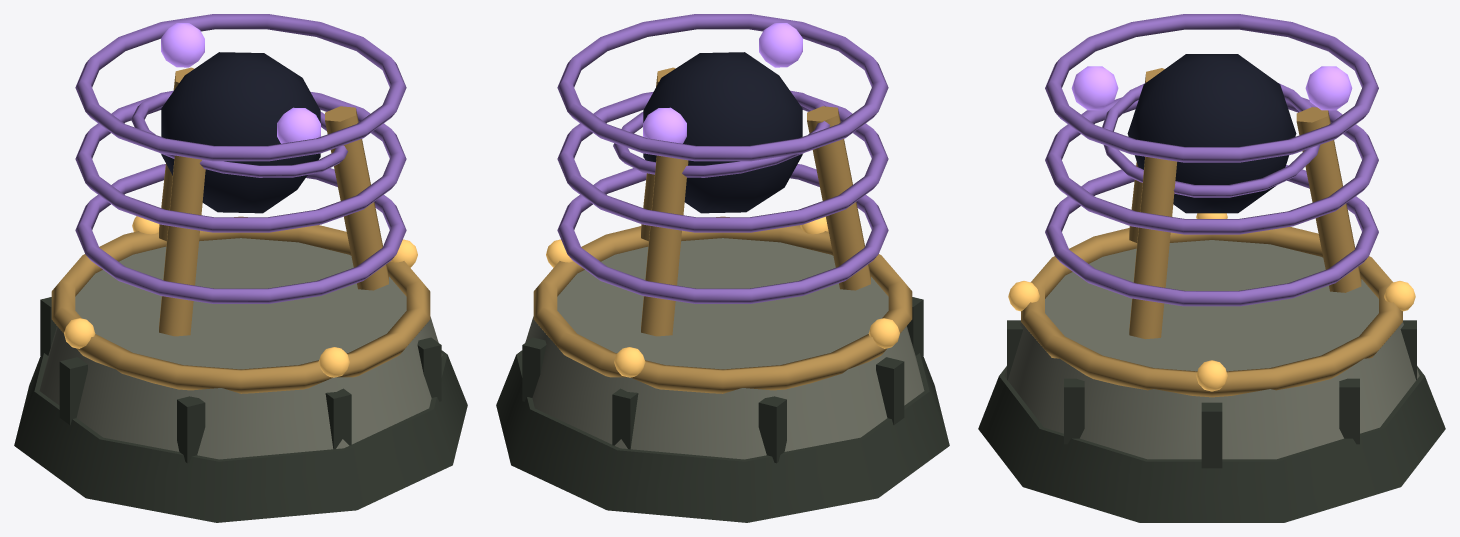
File: tower_gravity_gravityTide_ultimate.glb
The picture shows the model from 3 angles, left to right: view 1: azimuth 30°, elevation 25°; view 2: azimuth 150°, elevation 25°; view 3: azimuth 270°, elevation 25°; orthographic projection.
Visible parts, largest first — view 1: stone_1, foot_0, rim_2, black_hole_15, pulse_22, pulse_20, pulse_21, claw_18, claw_17, accretion_19, satellite_24, mortar_6 (+8 smaller); view 2: stone_1, foot_0, black_hole_15, rim_2, pulse_22, pulse_20, pulse_21, claw_16, claw_18, accretion_19, satellite_23, mortar_8 (+8 smaller); view 3: stone_1, foot_0, black_hole_15, rim_2, pulse_22, pulse_20, pulse_21, claw_17, claw_16, accretion_19, satellite_23, satellite_24 (+9 smaller).
Boxes of the visible parts, x1,y1,x2,y2 form: stone_1: [39, 238, 442, 459]; foot_0: [14, 350, 467, 522]; rim_2: [51, 216, 430, 393]; black_hole_15: [161, 52, 320, 213]; pulse_22: [75, 14, 406, 161]; pulse_20: [75, 164, 406, 303]; pulse_21: [75, 91, 406, 232]; claw_18: [159, 155, 205, 336]; claw_17: [325, 106, 388, 290]; accretion_19: [131, 90, 347, 177]; satellite_24: [161, 23, 204, 67]; mortar_6: [177, 396, 205, 463]; stone_1: [521, 238, 924, 459]; foot_0: [496, 350, 949, 522]; black_hole_15: [643, 52, 802, 213]; rim_2: [533, 216, 912, 393]; pulse_22: [557, 14, 888, 161]; pulse_20: [557, 164, 888, 303]; pulse_21: [557, 91, 888, 232]; claw_16: [641, 155, 688, 336]; claw_18: [807, 106, 870, 290]; accretion_19: [613, 90, 830, 177]; satellite_23: [759, 23, 802, 67]; mortar_8: [758, 396, 786, 463]; stone_1: [1004, 240, 1419, 459]; foot_0: [978, 366, 1445, 522]; black_hole_15: [1127, 54, 1296, 213]; rim_2: [1021, 227, 1402, 397]; pulse_22: [1045, 14, 1378, 162]; pulse_20: [1045, 165, 1378, 306]; pulse_21: [1045, 97, 1378, 234]; claw_17: [1129, 156, 1176, 339]; claw_16: [1296, 107, 1361, 292]; accretion_19: [1102, 83, 1320, 197]; satellite_23: [1071, 66, 1118, 110]; satellite_24: [1305, 66, 1352, 110].
Bounding box in the file's own units: 0.5326 × 0.491 × 0.56.
